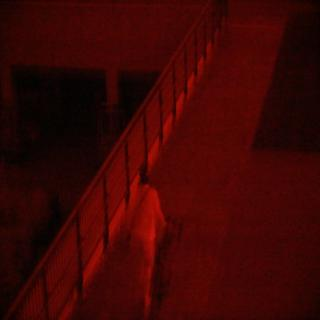person: (124, 168, 173, 313)
